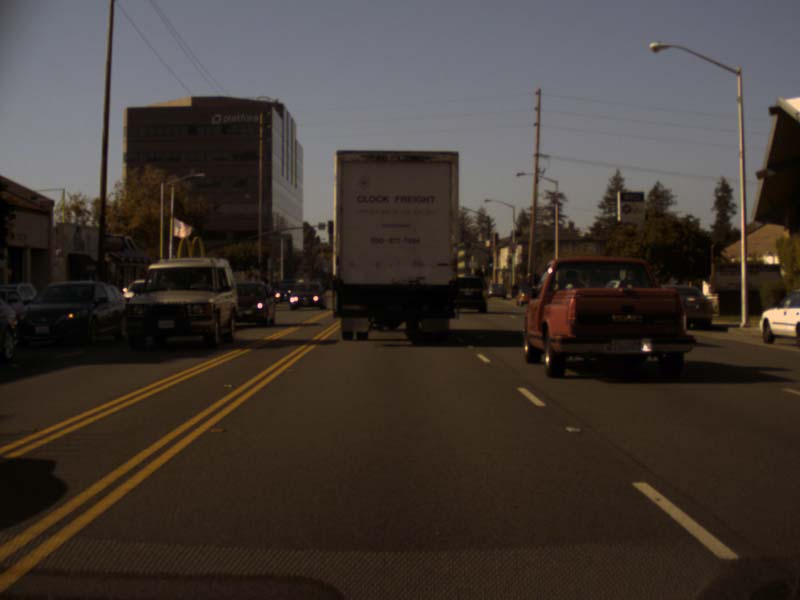Green: (488, 257, 492, 266)
